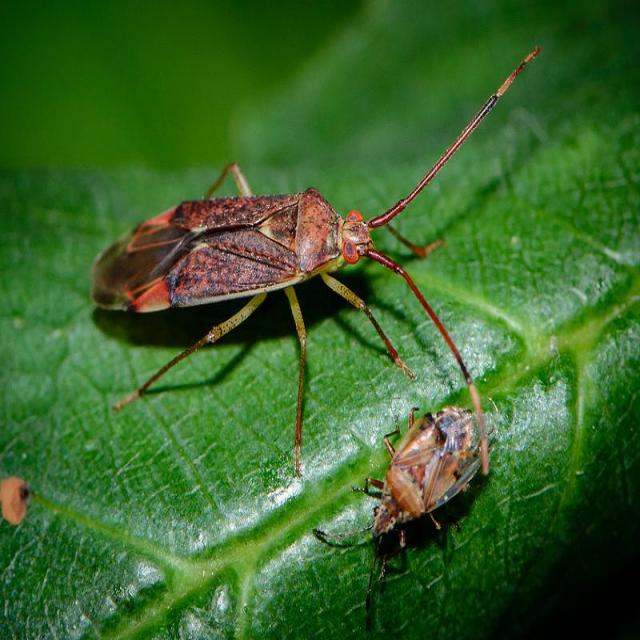Miridae-Adult-: (87, 44, 563, 414)
